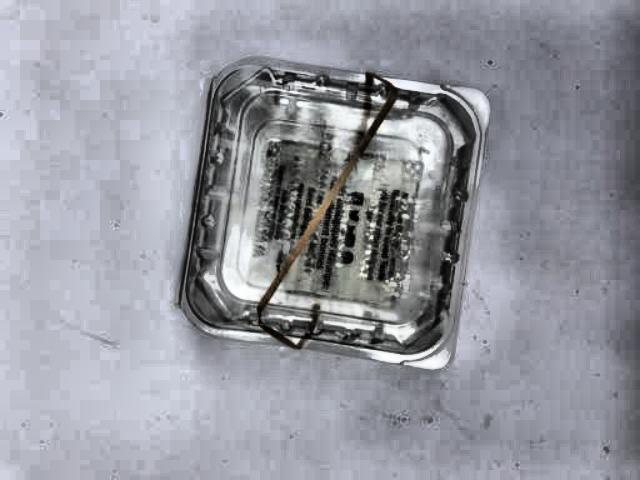Plastic: (171, 53, 484, 384)
